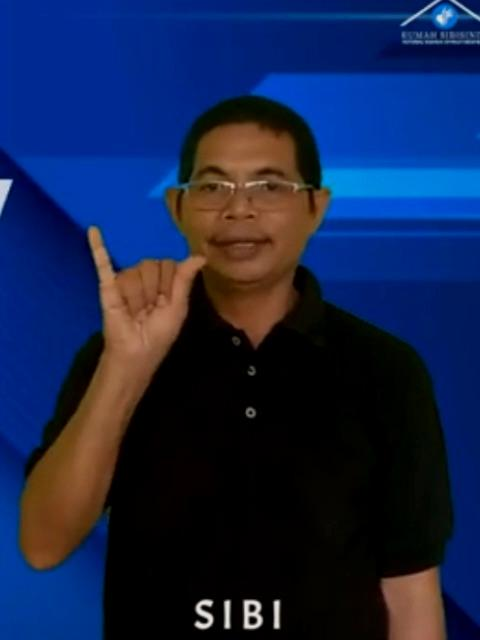Y: (80, 217, 207, 367)
